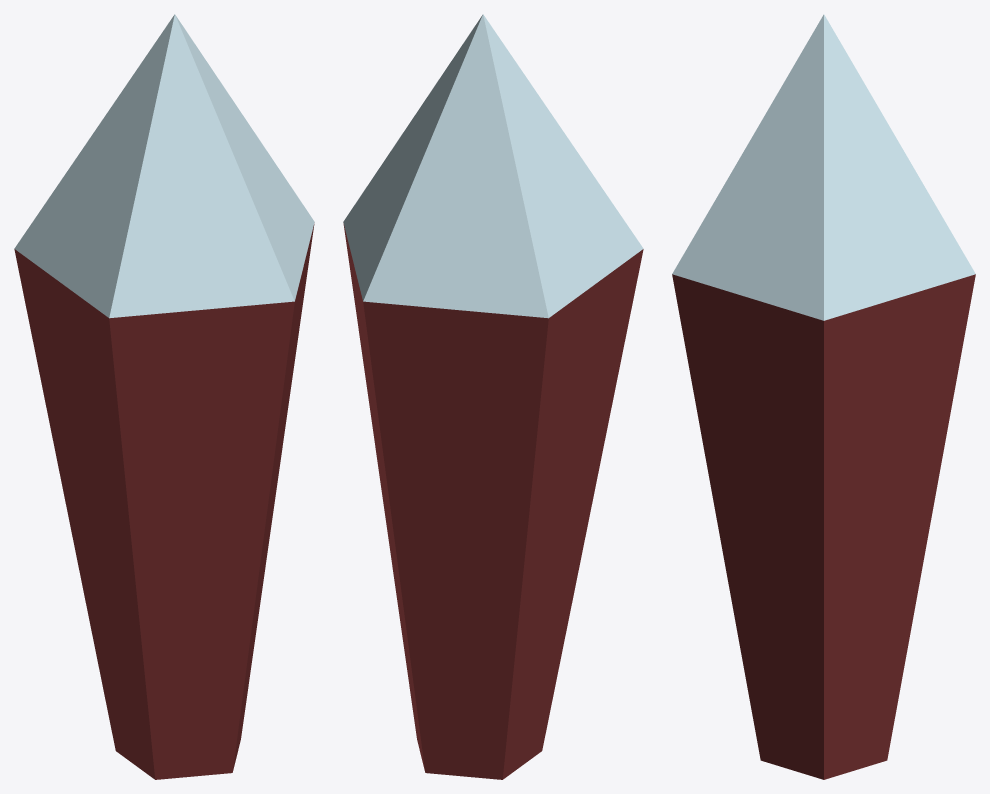
Rendered from SM_Env_Dungeon_Crystal_02_Snow.fbx.
3 views of the same model, side by side, from view 1: azimuth 30°, elevation 25°; view 2: azimuth 150°, elevation 25°; view 3: azimuth 270°, elevation 25° (orthographic).
Parts seen in each view (by area): view 1: SM_Env_Dungeon_Crystal_02_Snow; view 2: SM_Env_Dungeon_Crystal_02_Snow; view 3: SM_Env_Dungeon_Crystal_02_Snow.
Boxes of the visible parts, box(x1,y1,x2,y2) form: SM_Env_Dungeon_Crystal_02_Snow: box(14, 14, 314, 779); SM_Env_Dungeon_Crystal_02_Snow: box(343, 14, 643, 779); SM_Env_Dungeon_Crystal_02_Snow: box(672, 14, 975, 779).
Size of the model in its own units: 21.13 by 59.22 by 22.22.
1 material, 1 textured.
